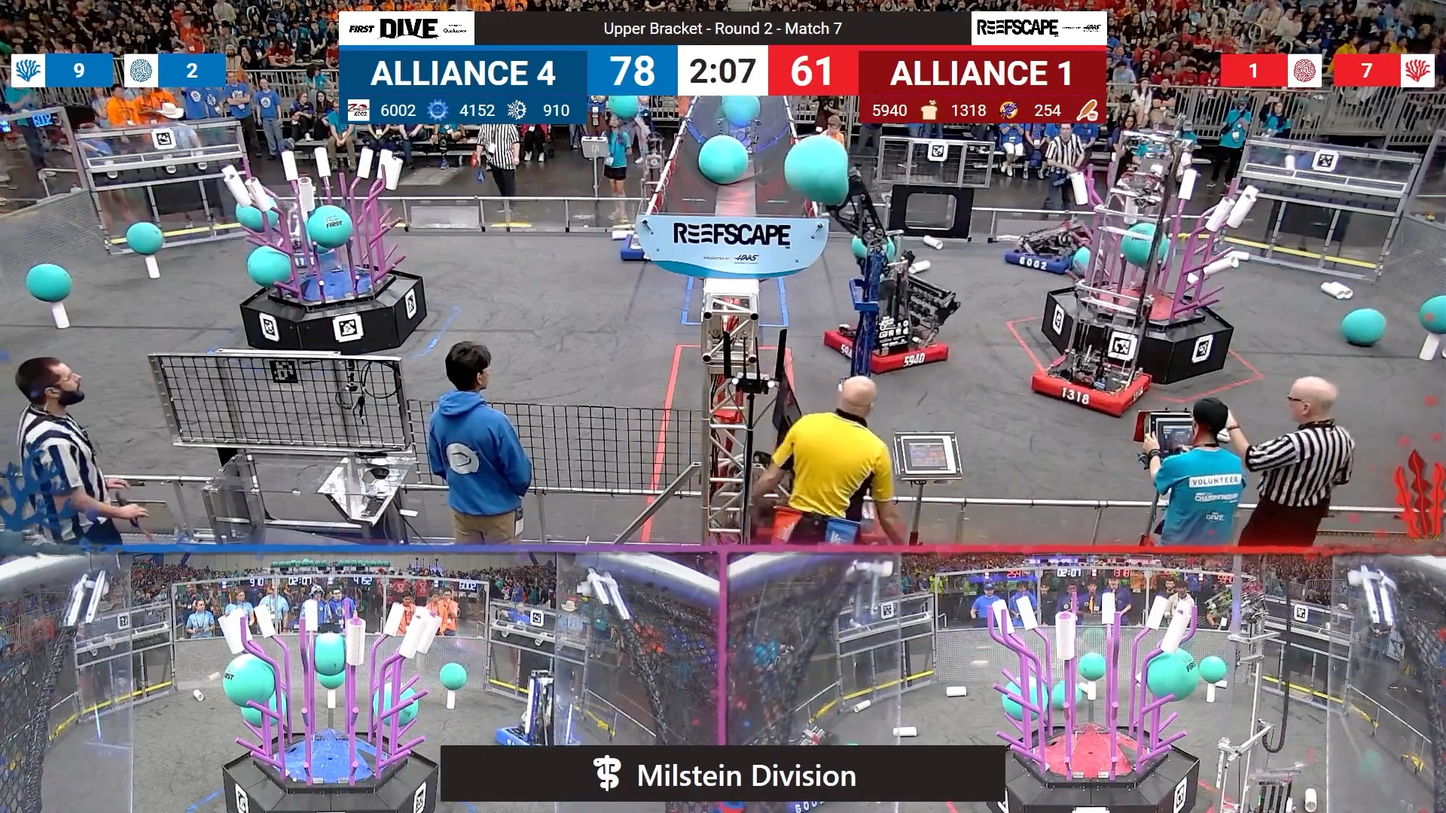bumpers: (1024, 356, 1160, 420), (819, 321, 959, 382), (997, 241, 1097, 281), (490, 721, 582, 746), (614, 238, 668, 265)
